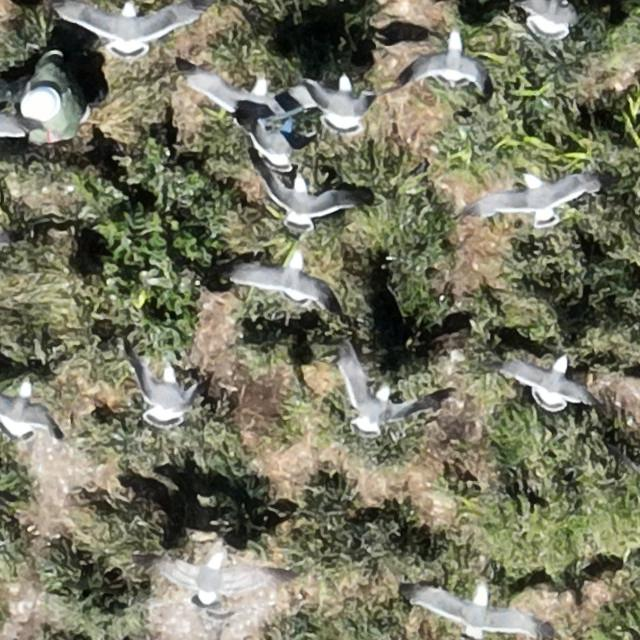F: (148, 535, 284, 607), (340, 353, 434, 438), (412, 577, 537, 635), (192, 75, 308, 135), (117, 349, 207, 425), (241, 246, 335, 313), (485, 174, 589, 224), (307, 68, 383, 131), (88, 6, 186, 53), (405, 34, 489, 86), (511, 356, 590, 407), (269, 174, 344, 225), (252, 121, 316, 171), (0, 387, 47, 436), (519, 1, 572, 36)
umineko: (0, 228, 9, 247)
